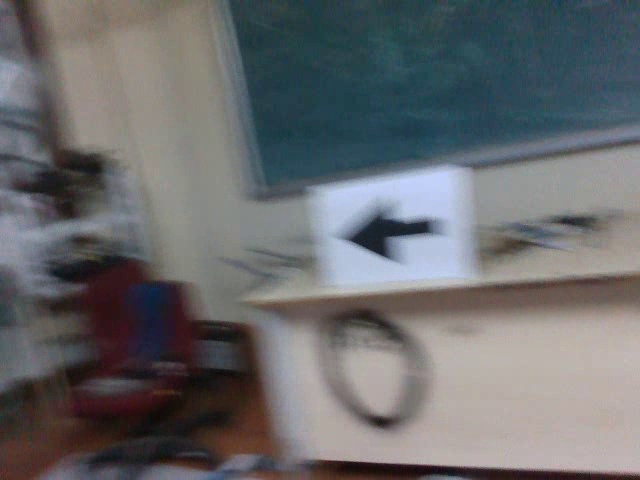Left: (336, 196, 441, 268)
